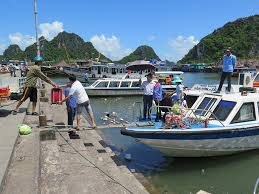tau_dansu: (138, 88, 259, 157), (70, 69, 180, 103)
